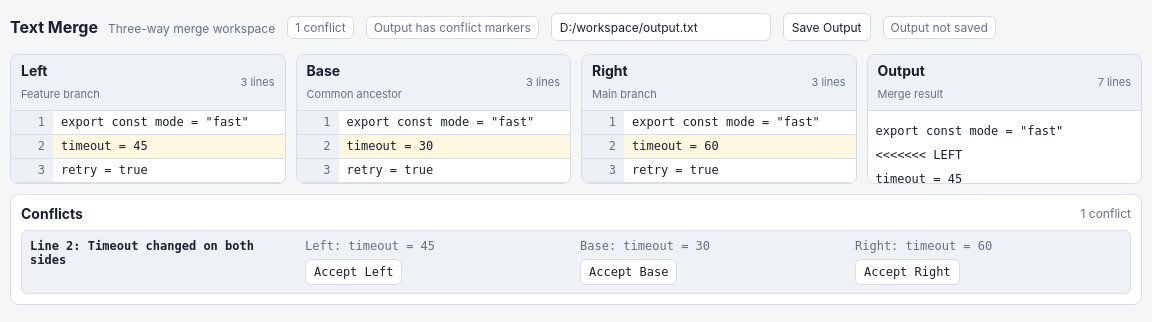
TextMergeView › accepts the left side for the current conflict
This screenshot has width=1152, height=322.
Click the button with test id "accept-left-conflict": (354, 272) x1=305 y1=259 x2=402 y2=285
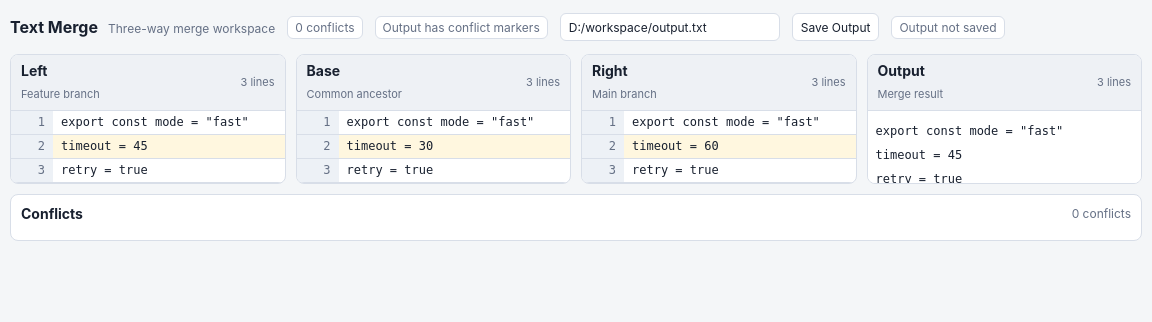
expect the text with test id "merge-conflict-status" reads "0 conflicts": met, box x1=295 y1=20 x2=354 y2=34
